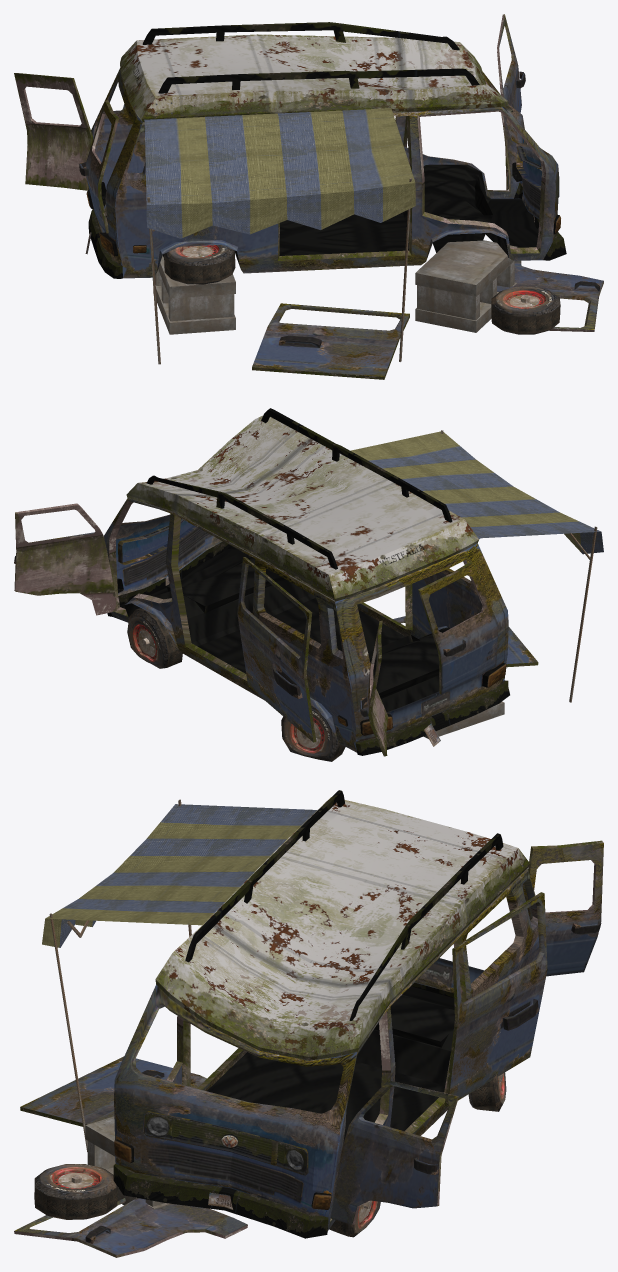
Rendered from crushed_van.glb.
The picture shows the model from 3 angles, top to bottom: view 1: azimuth 30°, elevation 25°; view 2: azimuth 150°, elevation 25°; view 3: azimuth 270°, elevation 25°; orthographic projection. The views are drawn at different scales.
Visible parts, largest first — view 1: polySurface4178; view 2: polySurface4178; view 3: polySurface4178.
Boxes of the visible parts, x1,y1,x2,y2 form: polySurface4178: [14, 14, 603, 379]; polySurface4178: [14, 408, 603, 761]; polySurface4178: [14, 790, 603, 1257].
Bounding box in the file's own units: 0.2675 × 0.1252 × 0.2333.
1 material, 1 textured.
